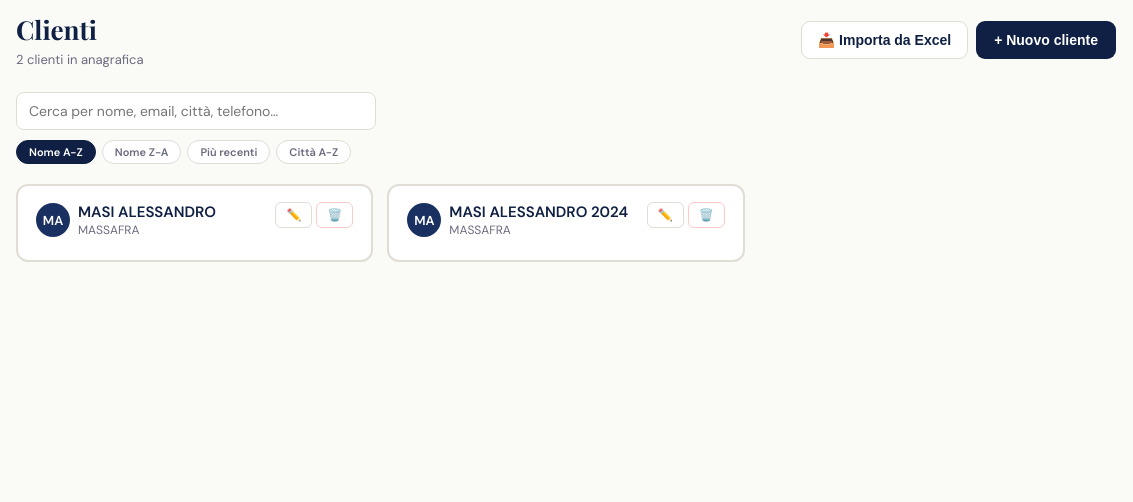
ClientiView — la ricerca lato server segue le mutazioni locali › il pannello aperto sul cliente eliminato si chiude
The image size is (1133, 502).
Type "masi alessan" into the field with placeholder "Cerca per nome, email, città, telefono…". click: (196, 111)
box: [16,92,376,130]
Wait 300 ms
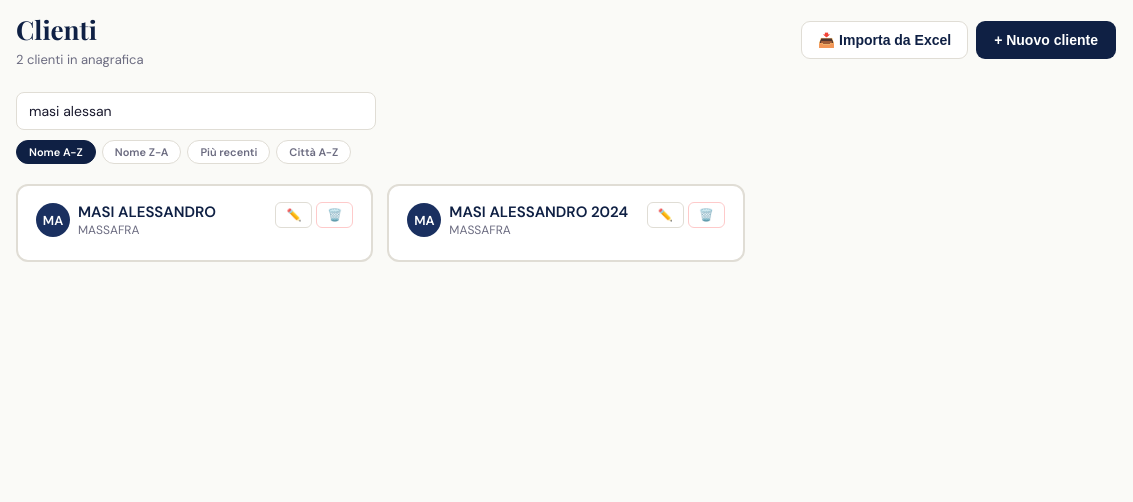
Click the text "MASI ALESSANDRO 2024". click: (539, 212)
box: [449,202,628,222]
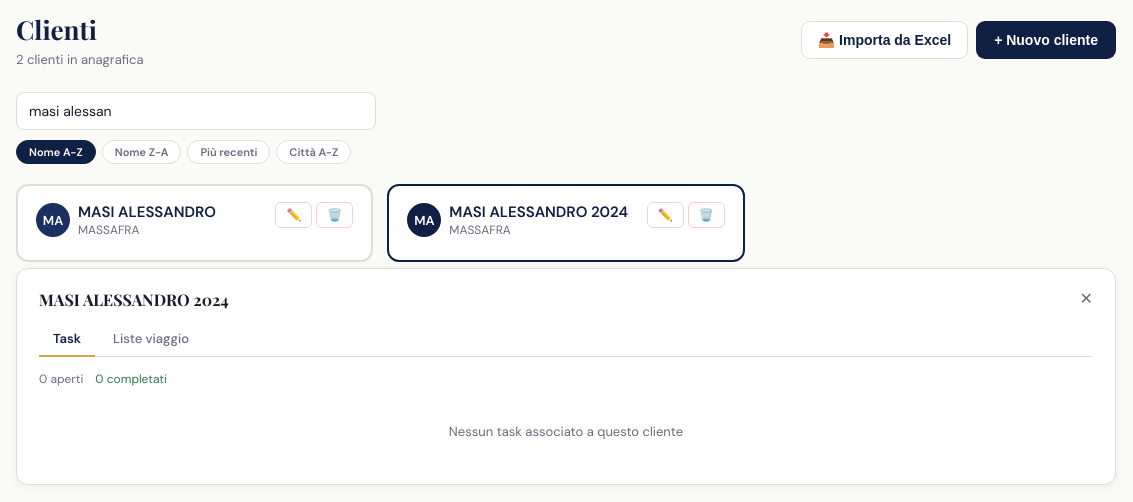
Now the button named "Chiudi il pannello" is shown, box [1080,289,1093,308]
